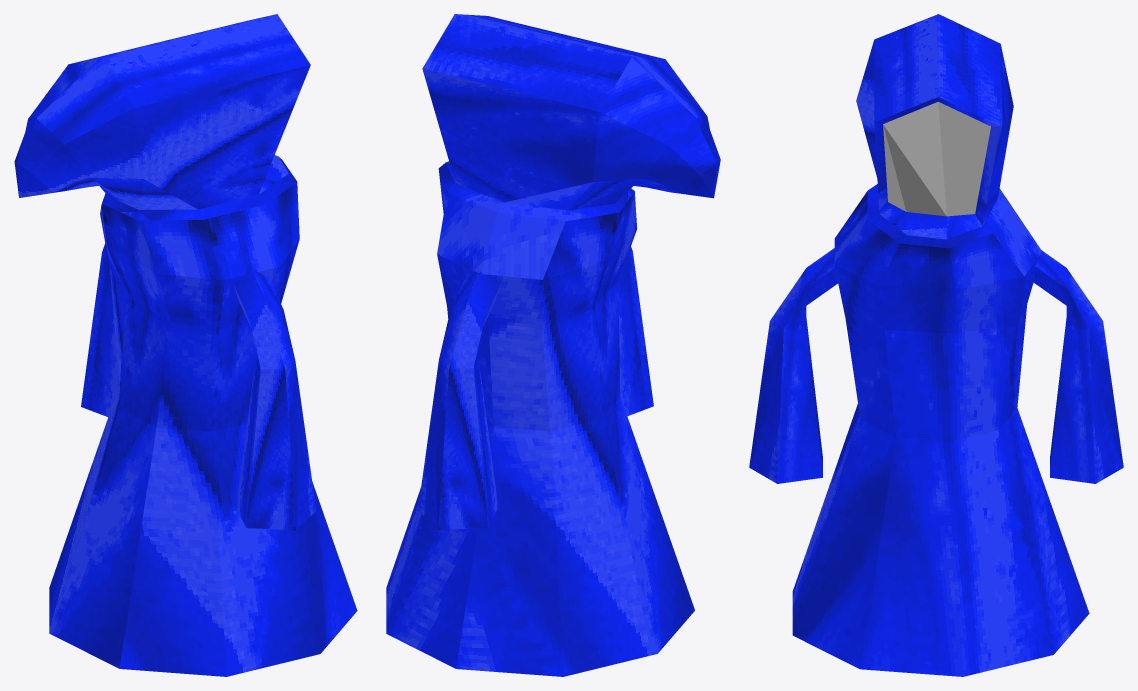
Rendered from wizardBlue.glb.
3 views of the same model, side by side, from view 1: azimuth 30°, elevation 25°; view 2: azimuth 150°, elevation 25°; view 3: azimuth 270°, elevation 25° (orthographic). The views are drawn at different scales.
Parts seen in each view (by area): view 1: WizTorso, WizHood, WizArmR, WizArmL; view 2: WizTorso, WizHood, WizArmL, WizArmR; view 3: WizTorso, WizHood, WizArmL, WizArmR.
Part boxes in pixels (x1,y1,x2,y2): WizTorso: [49, 156, 357, 676]; WizHood: [14, 14, 310, 209]; WizArmR: [234, 263, 316, 530]; WizArmL: [81, 243, 119, 416]; WizTorso: [386, 162, 694, 676]; WizHood: [422, 14, 720, 210]; WizArmL: [418, 271, 501, 529]; WizArmR: [618, 247, 653, 416]; WizTorso: [792, 184, 1089, 676]; WizHood: [856, 14, 1013, 239]; WizArmL: [1033, 250, 1123, 483]; WizArmR: [749, 244, 839, 483].
Bounding box in the file's own units: 1.57 × 2.73 × 1.67.
Materials: 5 (4 with a texture image).
